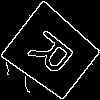R: (26, 26, 84, 85)
